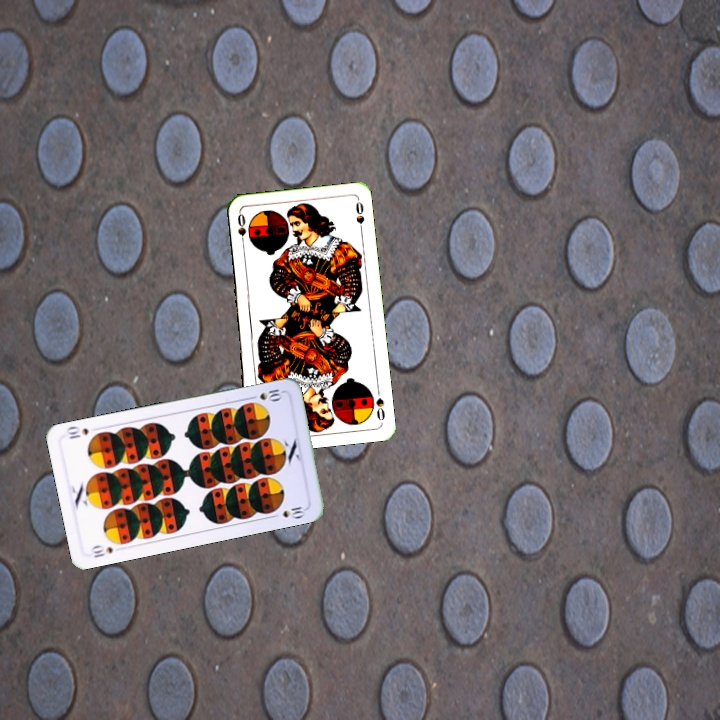S10: (245, 385, 285, 403), (87, 541, 115, 560)
SO: (233, 209, 249, 250), (372, 384, 387, 425)
